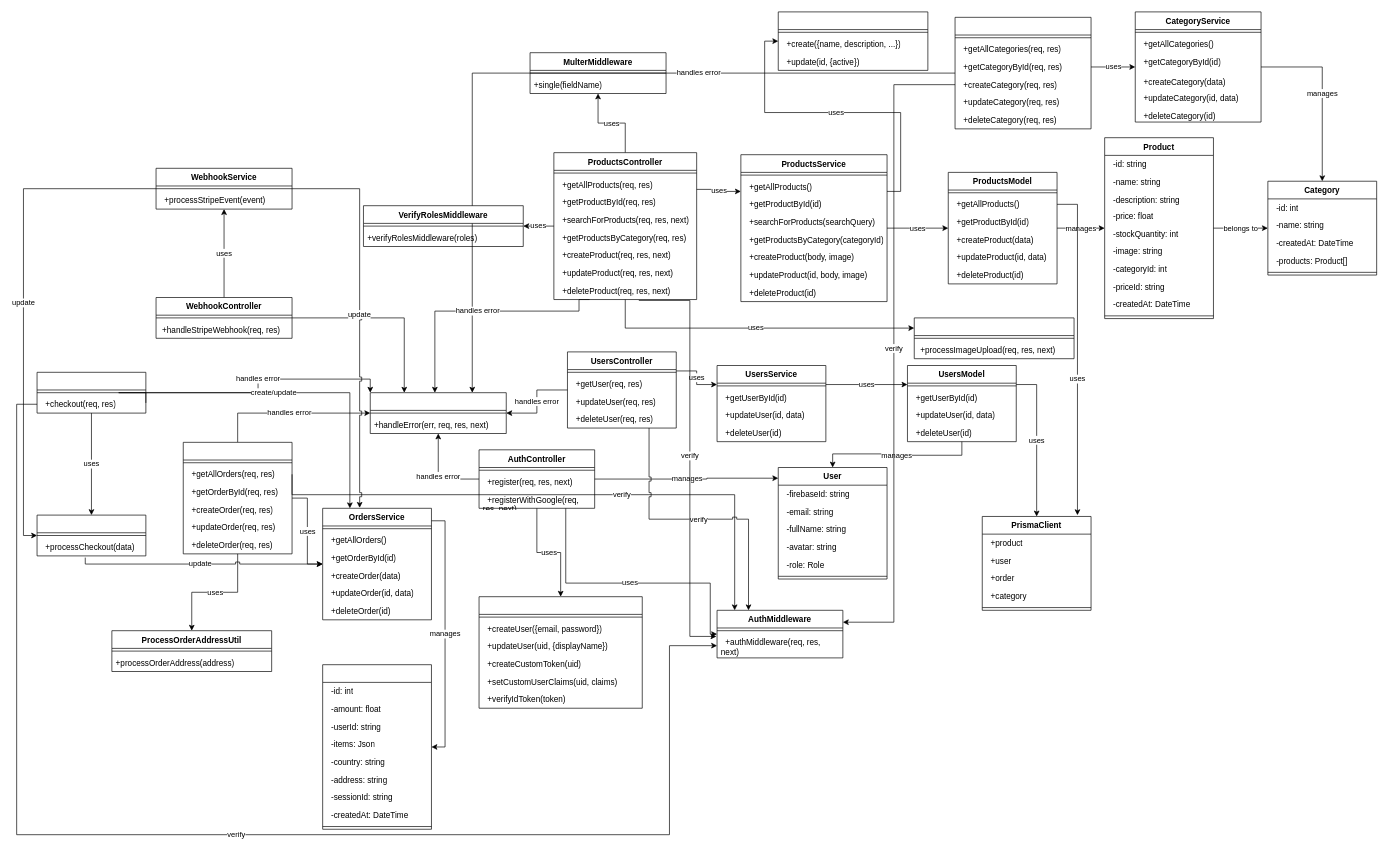
Image size: 1389x852. Some labels were removed from this diagram. Here are the shapes that lost their labels. From the top down, the box of each, then its label:
(778, 11, 928, 70): StripeProduct
(954, 17, 1091, 129): CategoryController
(914, 317, 1074, 359): ProcessImageUploadMiddleware
(36, 372, 146, 413): CheckoutController
(370, 392, 506, 434): ErrorMiddleware
(183, 442, 292, 554): OrdersController
(36, 514, 146, 556): CheckoutService
(478, 596, 642, 708): FirebaseAuth
(322, 664, 431, 829): Order
